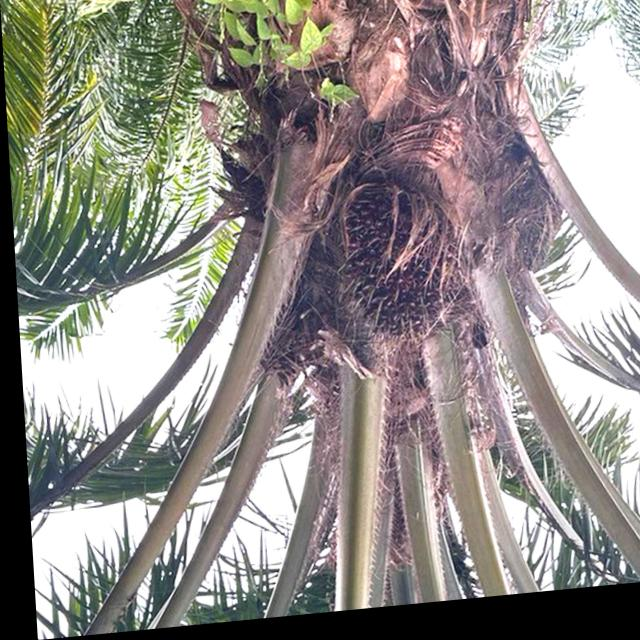ripe: (315, 177, 460, 368)
